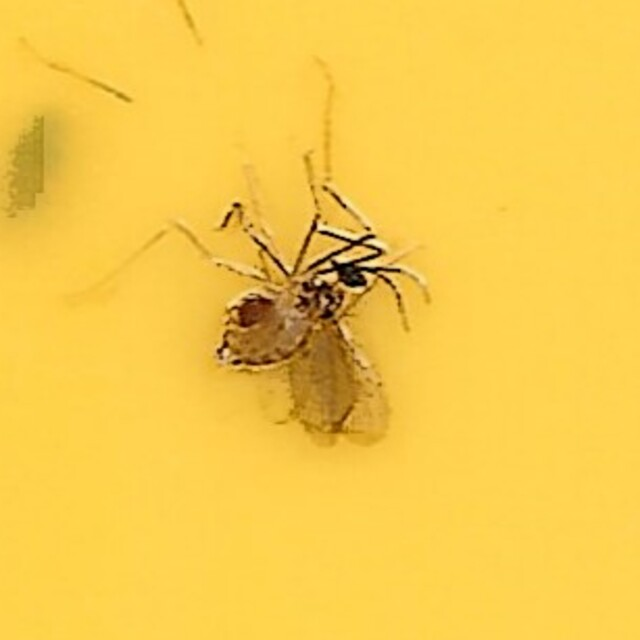Nematocera: (208, 189, 432, 451)
